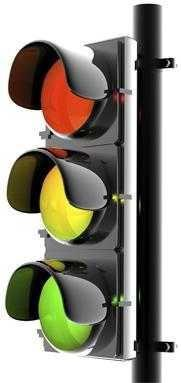5: (11, 37, 125, 144)
9: (6, 151, 124, 250)
red traffic light: (5, 255, 122, 360)
